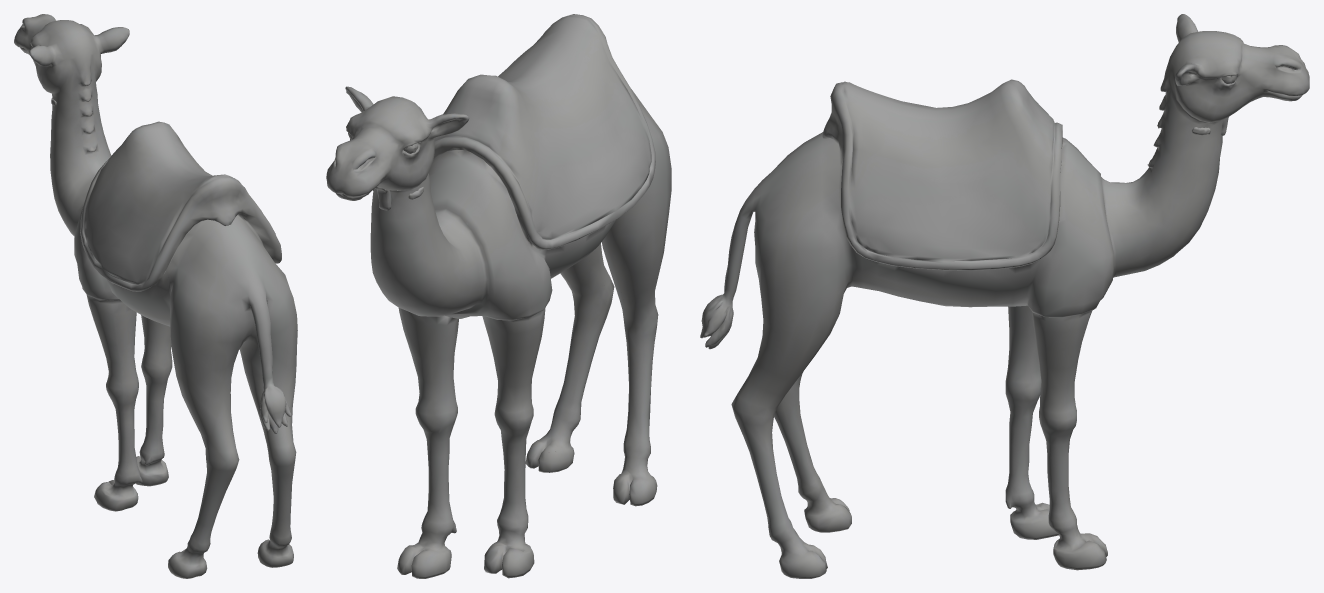
File: r33-camel.glb
3 renders of one model, left to right at view 1: azimuth 30°, elevation 25°; view 2: azimuth 150°, elevation 25°; view 3: azimuth 270°, elevation 25°, orthographic. The views are drawn at different scales.
Parts seen in each view (by area): view 1: tripo_node_a273557b-efc4-4f57-8c2d-144322a9c2be; view 2: tripo_node_a273557b-efc4-4f57-8c2d-144322a9c2be; view 3: tripo_node_a273557b-efc4-4f57-8c2d-144322a9c2be.
Boxes of the visible parts, <box> form: tripo_node_a273557b-efc4-4f57-8c2d-144322a9c2be: <box>14,14,297,578</box>; tripo_node_a273557b-efc4-4f57-8c2d-144322a9c2be: <box>326,14,671,578</box>; tripo_node_a273557b-efc4-4f57-8c2d-144322a9c2be: <box>700,14,1309,578</box>.
Size of the model in its own units: 0.3535 by 0.9277 by 0.998.
Materials: 1 (1 with a texture image).
